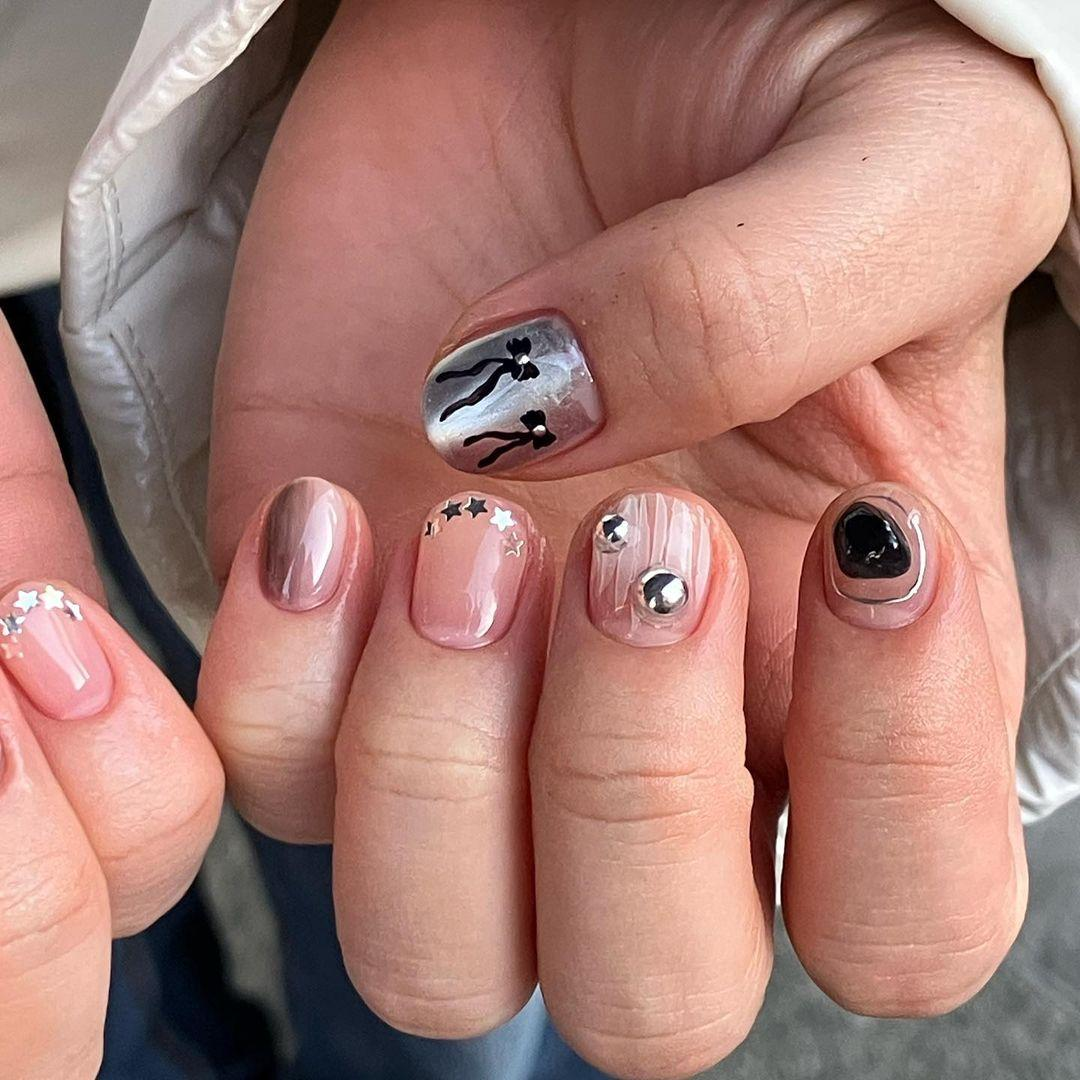nail: (422, 311, 602, 473), (585, 488, 715, 648), (408, 489, 532, 650), (820, 481, 940, 630), (0, 578, 114, 721), (258, 475, 349, 612)
